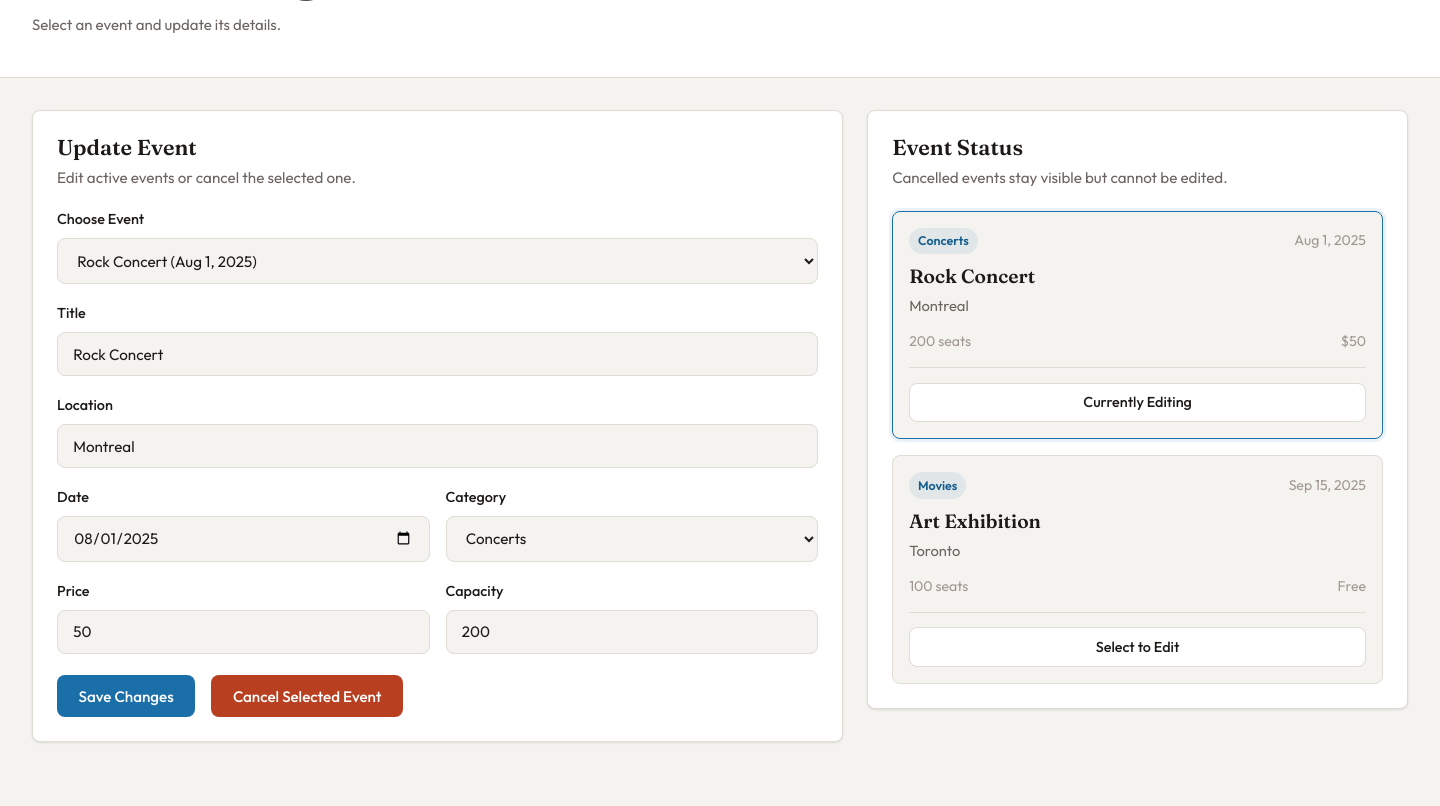
Test case: EditEventsPage — cancel event › shows success notice after cancelling an event
This screenshot has width=1440, height=806.
(page scrolled)
Click the button "Cancel Selected Event": (307,696) [211,676,403,717]
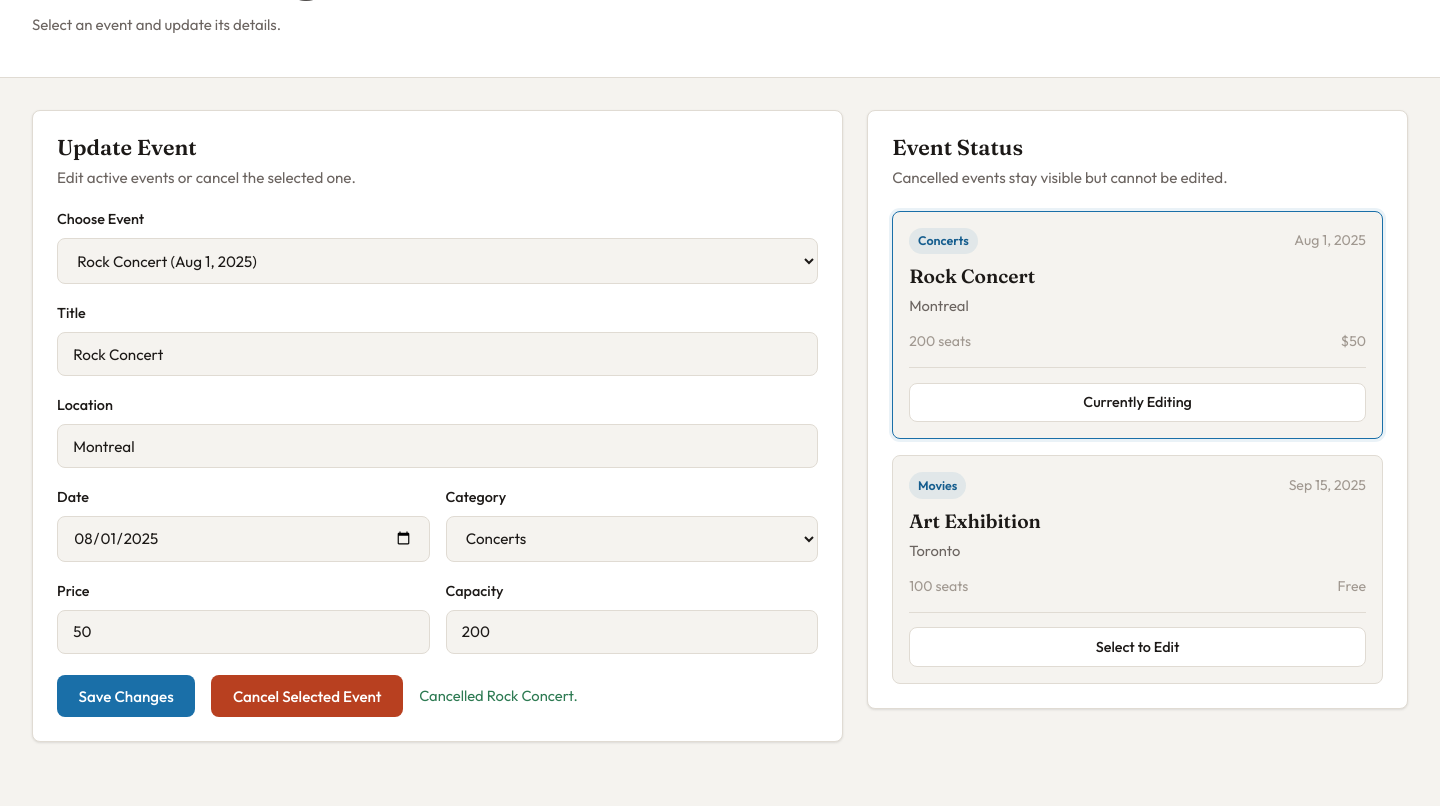
Result: the text "Cancelled Rock Concert." is shown at [419,684,578,708]
